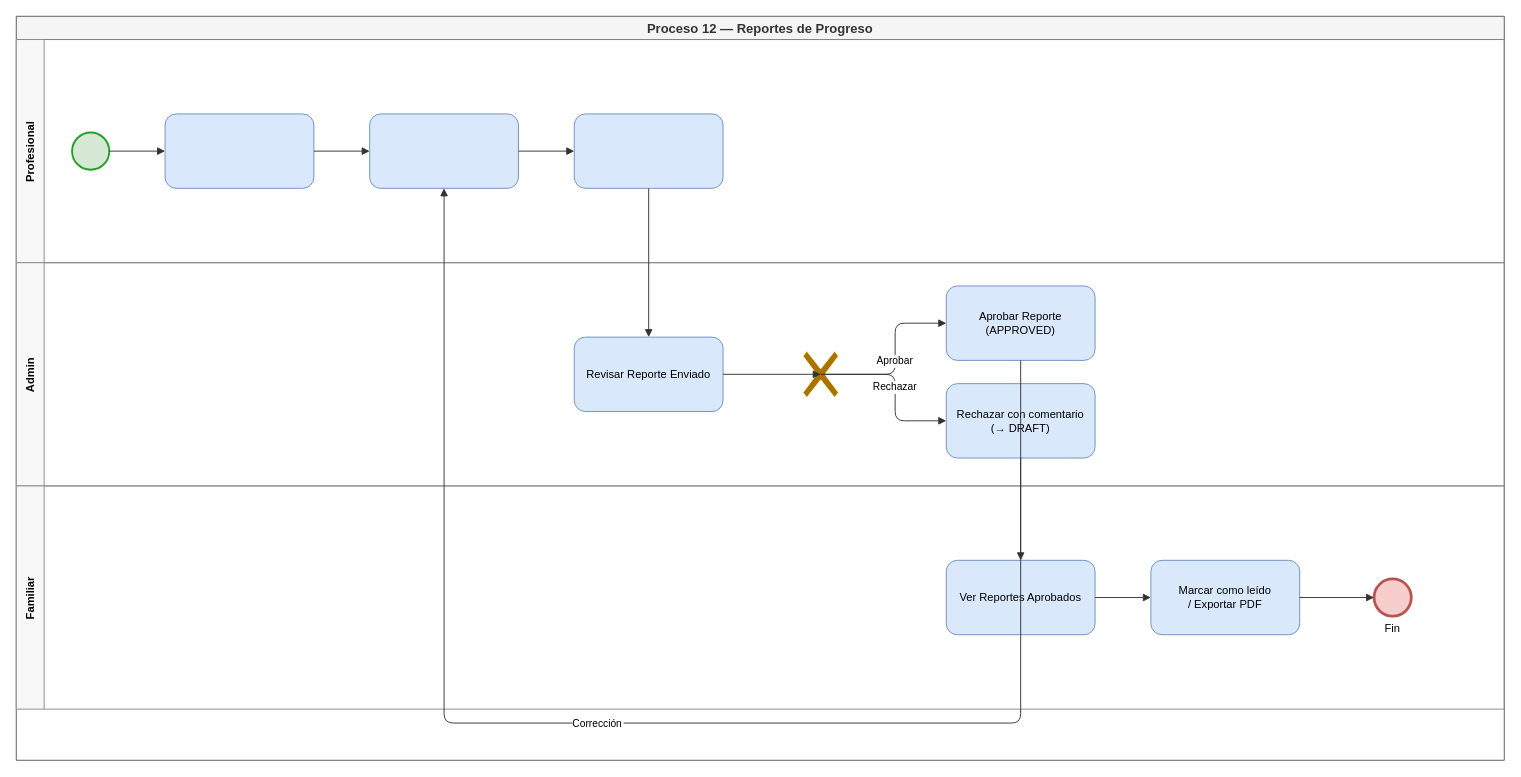
This 1521x777 diagram has some shape labels left out. The shapes that lost their labels are listed below. From the top down, each one's centre as x and y in pixels, then its label:
At point (90, 150): "Inicio".
At point (239, 150): "Crear Reporte".
At point (443, 150): "Editar contenido del reporte".
At point (648, 150): "Enviar a Revisión (SUBMITTED)".
At point (820, 374): "Decisión".
